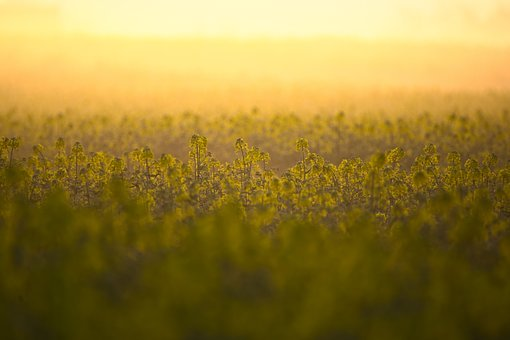field: (7, 7, 508, 238)
flower: (9, 109, 510, 340)
